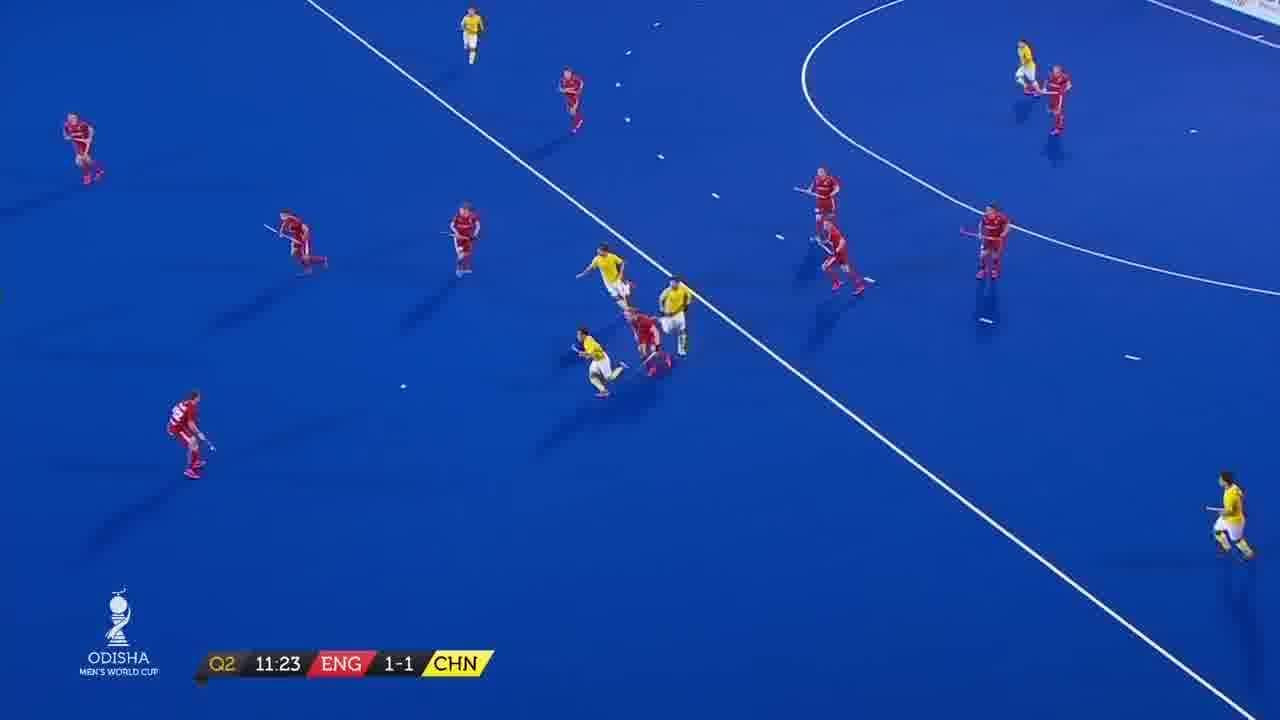ball: (396, 382, 412, 394)
